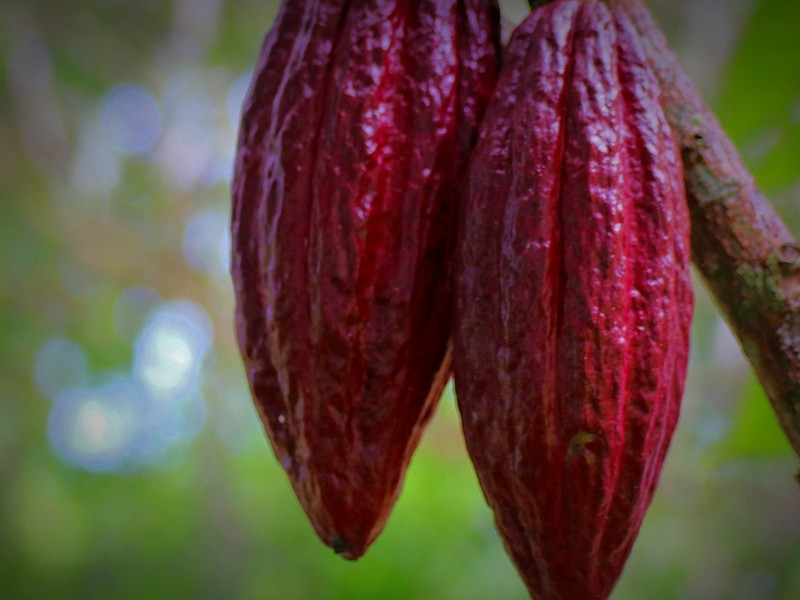Cacaopod: (452, 1, 695, 599), (230, 3, 487, 554)
